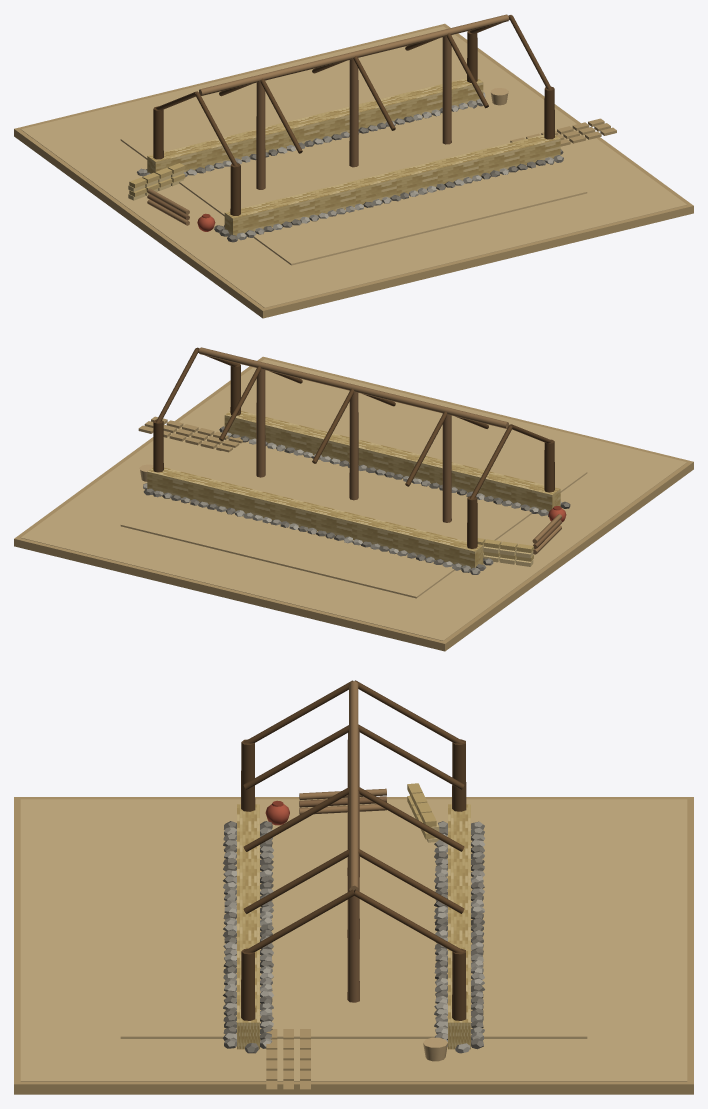
File: rad-3-construction.glb
3 renders of one model, top to bottom at view 1: azimuth 30°, elevation 25°; view 2: azimuth 150°, elevation 25°; view 3: azimuth 270°, elevation 25°, orthographic. The views are drawn at different scales.
Size of the model in its own units: 25.9 by 6.81 by 25.
Materials: 14 (2 with a texture image).
